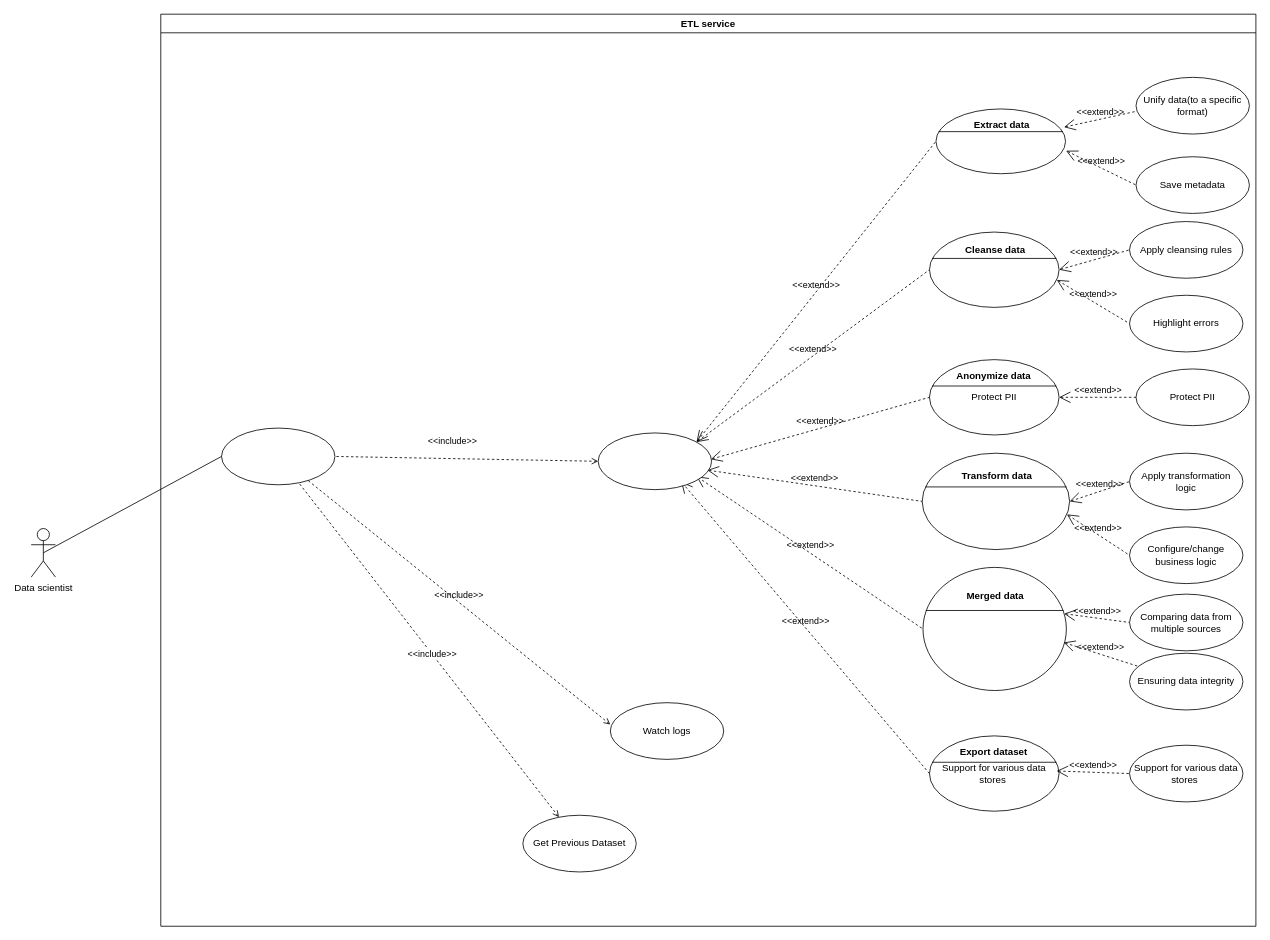
Some shapes in this 1270 by 940 pixel diagram are drawn without their labels. Here are the shapes that lost their labels. From the top down, the box of each, then its label:
(935, 108, 1066, 174): Unify data; Save metadata;
(929, 231, 1059, 307): Apply cleansing rules; Highlight errors;
(221, 427, 335, 485): LogIn
(597, 432, 712, 490): Manage job
(921, 452, 1070, 550): Apply transformation logic; Configure/change business logic;
(922, 567, 1066, 691): Comparing data from multiple sources ; Ensuring data integrity ;
